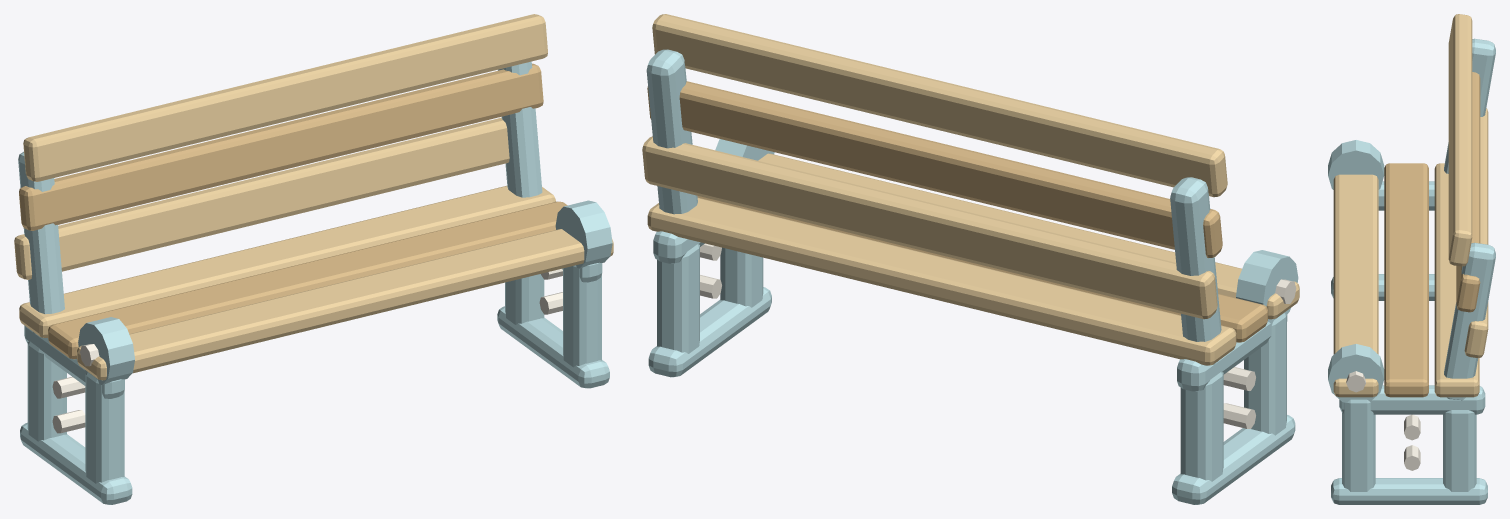
File: park_bench.glb
3 views of the same model, side by side, from view 1: azimuth 30°, elevation 25°; view 2: azimuth 150°, elevation 25°; view 3: azimuth 270°, elevation 25° (orthographic). The views are drawn at different scales.
Parts seen in each view (by area): view 1: bench_back_2, bench_back_1, bench_back_0, bench_seat_0, bench_seat_2, bench_seat_1, bench_l_front_leg, bench_r_front_leg, bench_l_post, bench_r_post, bench_l_foot, bench_r_foot (+5 smaller); view 2: bench_back_0, bench_back_2, bench_back_1, bench_seat_2, bench_seat_0, bench_l_post, bench_r_post, bench_l_rear_leg, bench_r_rear_leg, bench_l_front_leg, bench_l_foot, bench_r_foot (+5 smaller); view 3: bench_seat_1, bench_seat_0, bench_back_2, bench_seat_2, bench_r_foot, bench_r_post, bench_r_front_leg, bench_r_rear_leg, bench_back_1, bench_r_apron, bench_back_0, bench_r_scroll (+7 smaller).
Part boxes in pixels (bbox=[...]): bench_back_2: bbox=[23, 14, 547, 181]; bench_back_1: bbox=[19, 63, 543, 230]; bench_back_0: bbox=[14, 117, 509, 279]; bench_seat_0: bbox=[77, 229, 613, 380]; bench_seat_2: bbox=[19, 185, 555, 337]; bench_seat_1: bbox=[48, 201, 567, 359]; bench_l_front_leg: bbox=[85, 372, 124, 483]; bench_r_front_leg: bbox=[563, 265, 601, 367]; bench_l_post: bbox=[18, 151, 64, 334]; bench_r_post: bbox=[498, 61, 542, 197]; bench_l_foot: bbox=[20, 422, 132, 504]; bench_r_foot: bbox=[497, 306, 609, 388]; bench_back_0: bbox=[642, 136, 1217, 319]; bench_back_2: bbox=[652, 14, 1227, 197]; bench_back_1: bbox=[647, 81, 1222, 257]; bench_seat_2: bbox=[647, 197, 1236, 365]; bench_seat_0: bbox=[758, 153, 1299, 319]; bench_l_post: bbox=[1170, 177, 1221, 364]; bench_r_post: bbox=[646, 49, 697, 214]; bench_l_rear_leg: bbox=[1180, 372, 1223, 481]; bench_r_rear_leg: bbox=[657, 244, 699, 353]; bench_l_front_leg: bbox=[1244, 313, 1286, 435]; bench_l_foot: bbox=[1172, 415, 1295, 504]; bench_r_foot: bbox=[648, 287, 771, 377]; bench_seat_1: bbox=[1384, 163, 1428, 397]; bench_seat_0: bbox=[1333, 174, 1378, 397]; bench_back_2: bbox=[1448, 14, 1472, 266]; bench_seat_2: bbox=[1434, 163, 1479, 397]; bench_r_foot: bbox=[1331, 478, 1487, 504]; bench_r_post: bbox=[1444, 242, 1495, 400]; bench_r_front_leg: bbox=[1342, 399, 1375, 491]; bench_r_rear_leg: bbox=[1443, 410, 1476, 491]; bench_back_1: bbox=[1456, 72, 1480, 312]; bench_r_apron: bbox=[1339, 385, 1485, 414]; bench_back_0: bbox=[1464, 108, 1488, 357]; bench_r_scroll: bbox=[1328, 344, 1384, 402].
Bounding box in the file's own units: 1.87 × 1.09 × 0.5981.
